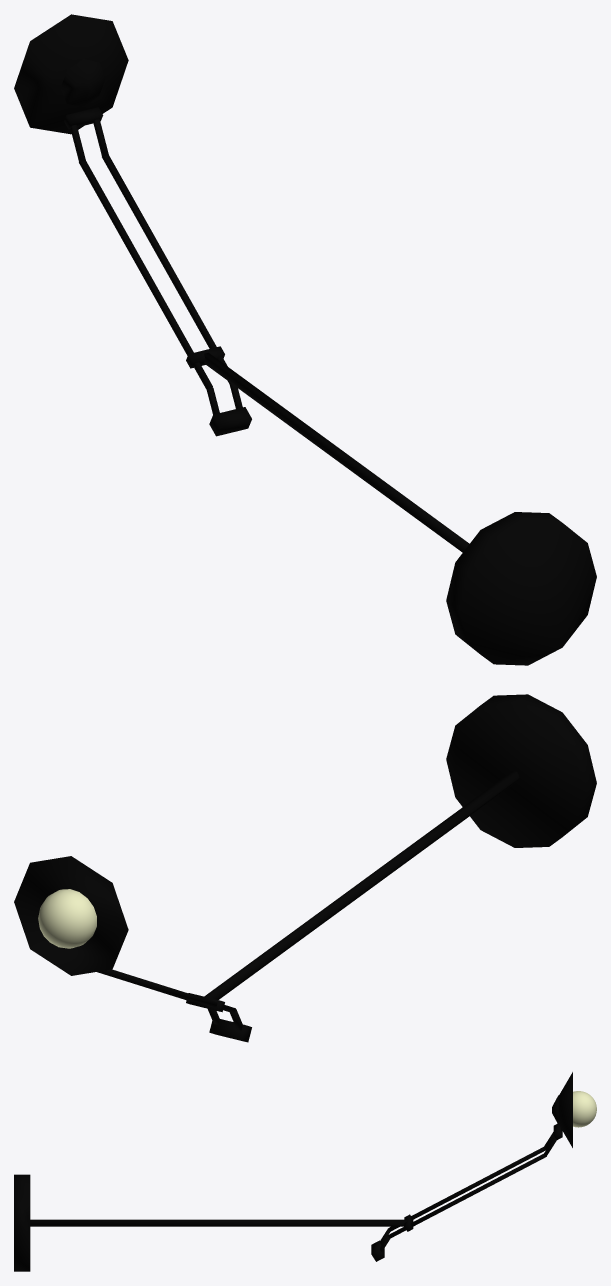
Rendered from lampOn.fbx.
3 renders of one model, top to bottom at view 1: azimuth 30°, elevation 25°; view 2: azimuth 150°, elevation 25°; view 3: azimuth 270°, elevation 25°, orthographic. The views are drawn at different scales.
Parts seen in each view (by area): view 1: lampeHalogene; view 2: lampeHalogene, Sphere; view 3: lampeHalogene, Sphere.
Part boxes in pixels (<box>): lampeHalogene: <box>14,14,596,665</box>; lampeHalogene: <box>14,694,596,1042</box>; Sphere: <box>38,889,96,948</box>; lampeHalogene: <box>14,1072,572,1271</box>; Sphere: <box>573,1091,596,1127</box>.
Bounding box in the file's own units: 0.006 × 0.0132 × 0.036.
